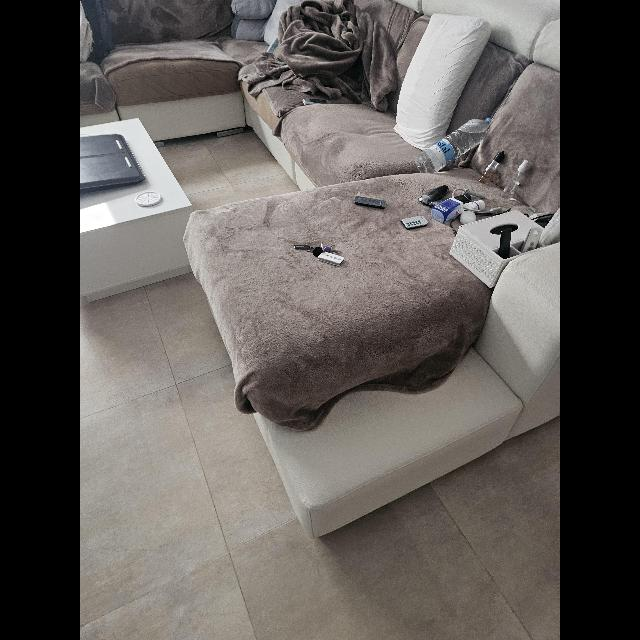Keys: (293, 240, 345, 266)
